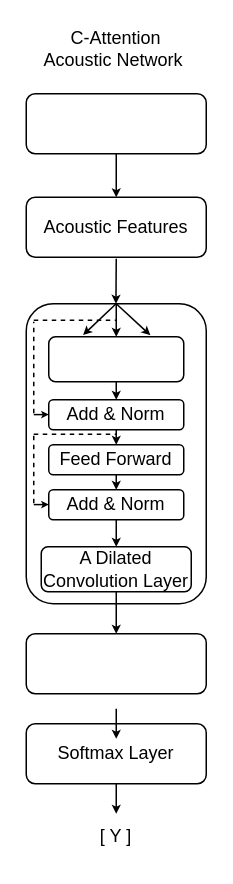
This 233x884 diagram has some shape labels left out. Each missing label, with the box of its shape:
A Single Convolution Layer: (25, 632, 206, 694)
Multi-Head Attention: (47, 335, 184, 382)
Original Dataset: (25, 92, 206, 154)
